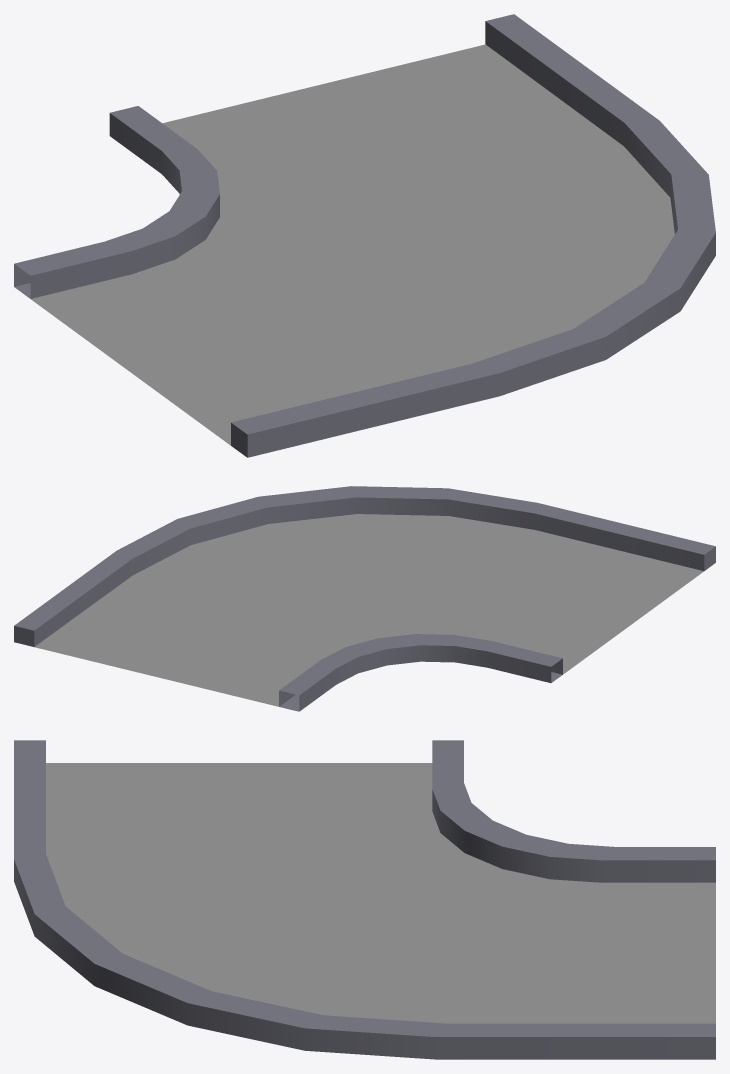
The model's file is FloorRoad_curveA_geo.fbx.
3 renders of one model, top to bottom at view 1: azimuth 30°, elevation 25°; view 2: azimuth 150°, elevation 25°; view 3: azimuth 270°, elevation 25°, orthographic. The views are drawn at different scales.
Visible parts, largest first — view 1: FloorRoad_curveA_geo; view 2: FloorRoad_curveA_geo; view 3: FloorRoad_curveA_geo.
Part boxes in pixels (left/top/right/bottom): FloorRoad_curveA_geo: left=14, top=14, right=715, bottom=457; FloorRoad_curveA_geo: left=14, top=486, right=715, bottom=711; FloorRoad_curveA_geo: left=14, top=740, right=715, bottom=1059.
Size of the model in its own units: 5.57 by 5.57 by 0.1969.
